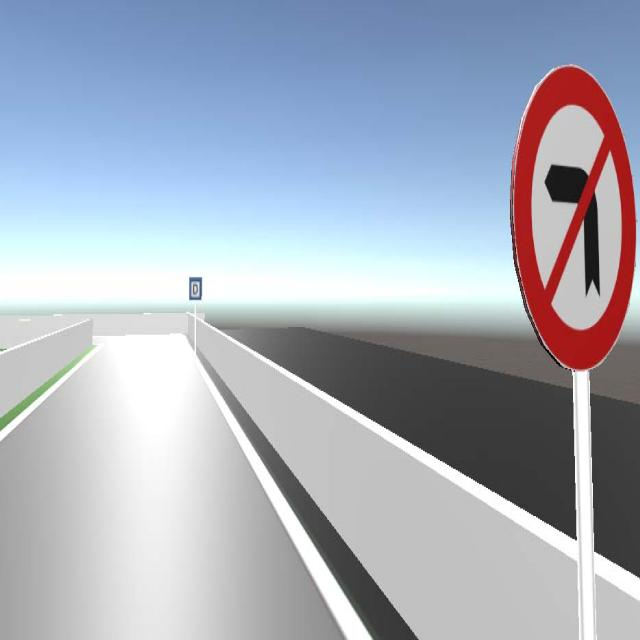durak: (189, 277, 202, 300)
soladonulmez: (511, 64, 636, 369)
